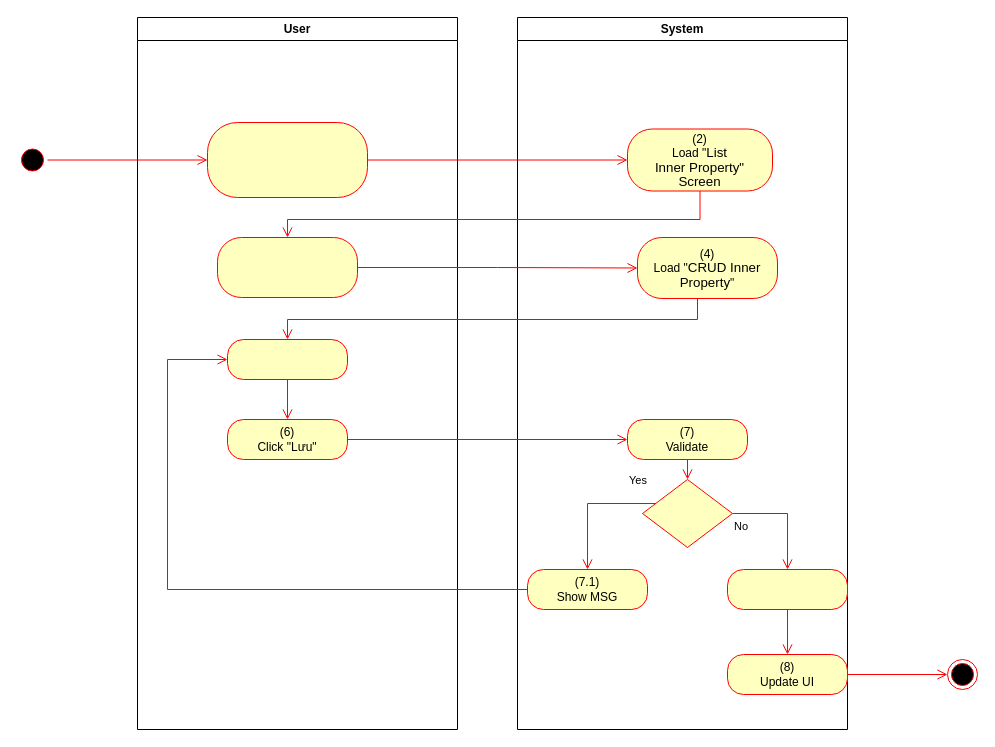
The diagram is 995 pixels wide and 747 high, and some of its shapes have lost their labels. The centre of each missing label's shape, as x and y in pixels:
(1) On "left menu" click " Product Management – List Inner Property ": pixel 287 160
(3) Click button "Chỉnh sửa" trên 1 item thuộc tính nội sản phẩm bất kỳ: pixel 287 267
(5) Giving input: pixel 287 359
(7.2) Update new Inner Property to DB: pixel 787 589
